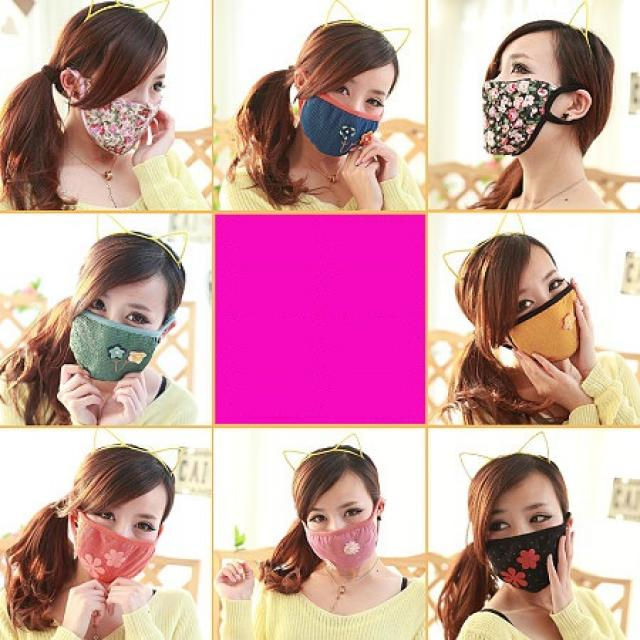mask: (71, 267, 165, 378), (478, 34, 562, 157), (481, 478, 563, 589), (77, 478, 162, 582), (88, 44, 165, 158), (498, 250, 582, 353), (304, 57, 384, 156), (302, 473, 375, 571)
